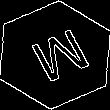M_SE: (19, 22, 91, 88)
